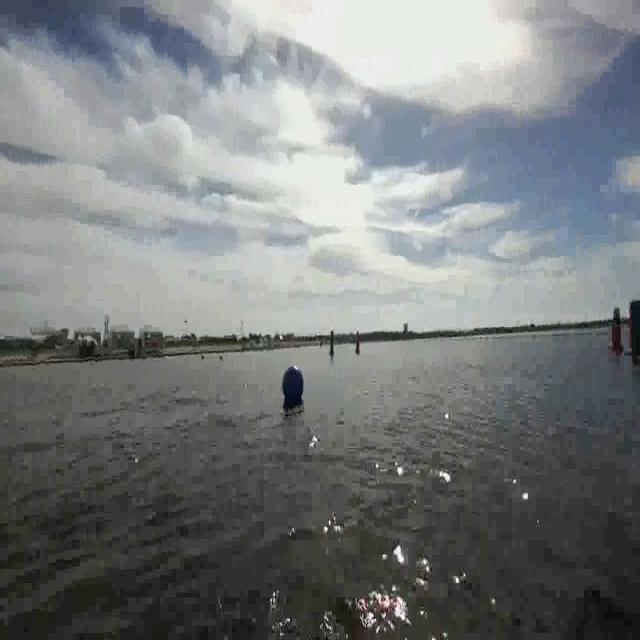blue-buoy: (282, 365, 304, 401)
green-column-buoy: (627, 300, 640, 364), (328, 331, 335, 356)
red-column-buoy: (609, 305, 626, 356), (354, 332, 361, 355)
